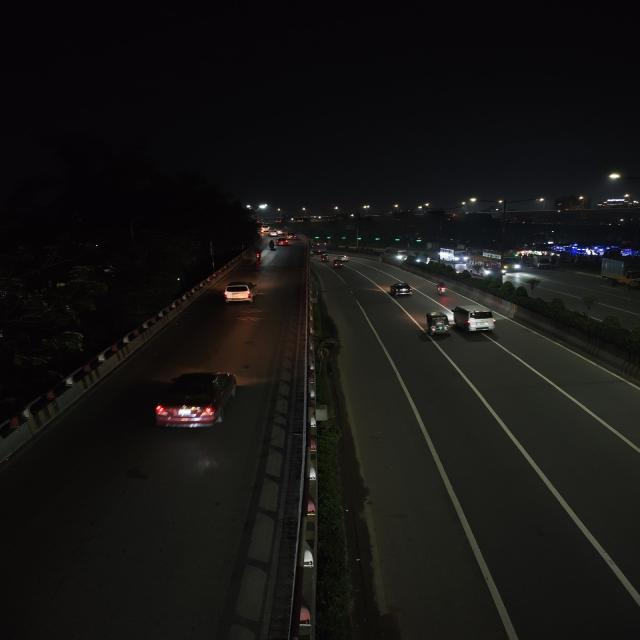bus: (470, 255, 522, 277), (438, 246, 468, 262)
car: (153, 368, 245, 434), (452, 304, 497, 334), (222, 280, 258, 305), (389, 281, 414, 297), (335, 254, 350, 264), (274, 238, 290, 247), (268, 230, 278, 237)
cng: (424, 310, 452, 337)
motorcycle: (434, 282, 449, 296), (252, 249, 264, 263), (331, 260, 344, 270), (266, 240, 276, 252), (319, 253, 329, 261)
truck: (599, 256, 640, 290), (534, 253, 556, 270)
